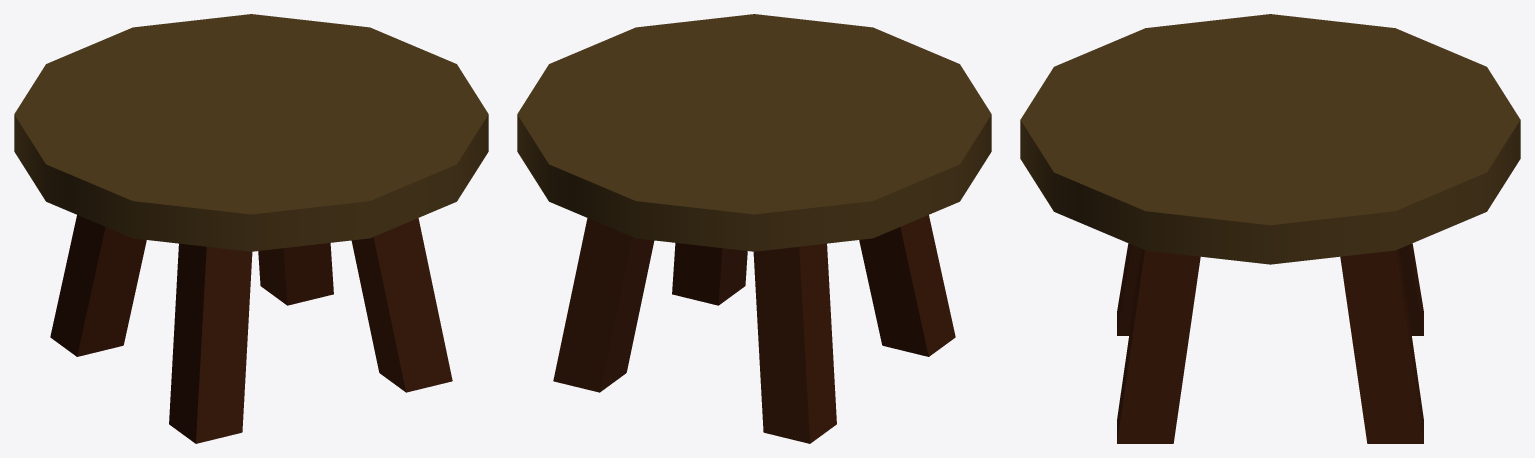
File: OBJ_table.fbx
3 renders of one model, left to right at view 1: azimuth 30°, elevation 25°; view 2: azimuth 150°, elevation 25°; view 3: azimuth 270°, elevation 25°, orthographic. The views are drawn at different scales.
Visible parts, largest first — view 1: Cylinder003, Box016; view 2: Cylinder003, Box016; view 3: Cylinder003, Box016.
Part boxes in pixels (<box>): Cylinder003: <box>14,14,488,251</box>; Box016: <box>50,215,452,443</box>; Cylinder003: <box>517,14,991,251</box>; Box016: <box>553,215,955,443</box>; Cylinder003: <box>1020,14,1520,264</box>; Box016: <box>1117,243,1423,443</box>.
Size of the model in its own units: 51.6 by 29.41 by 51.6.
